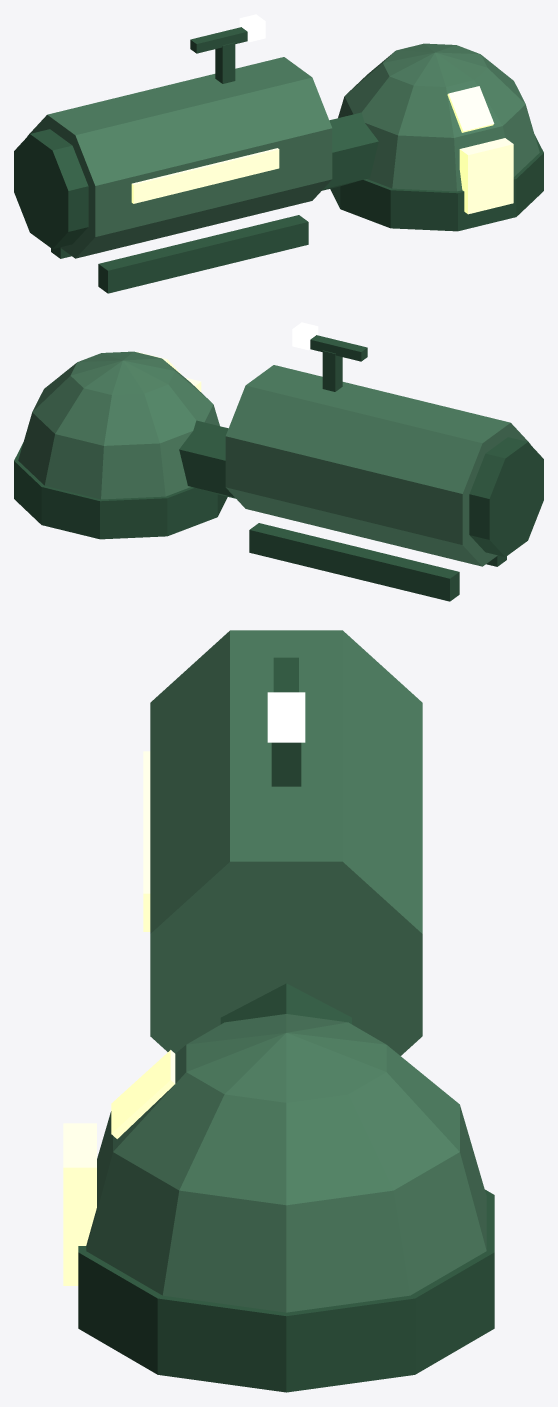
The model's file is habitat.glb.
3 views of the same model, one above another, from view 1: azimuth 30°, elevation 25°; view 2: azimuth 150°, elevation 25°; view 3: azimuth 270°, elevation 25° (orthographic). The views are drawn at different scales.
Parts seen in each view (by area): view 1: Module, Dome, Ring, EndL, SkidF, Door, Window, Tunnel, Porthole, Spinner, Post; view 2: Module, Dome, Ring, EndL, SkidB, Tunnel, Spinner, Post; view 3: Module, Dome, Ring, Door, Spinner, Porthole, Tunnel, Window, Post.
Boxes of the visible parts, x1,y1,x2,y2 form: Module: (27, 57, 332, 258); Dome: (338, 43, 539, 191); Ring: (330, 134, 543, 231); EndL: (14, 129, 88, 248); SkidF: (98, 215, 308, 293); Door: (459, 138, 513, 214); Window: (131, 148, 279, 203); Tunnel: (322, 112, 378, 190); Porthole: (447, 86, 494, 132); Spinner: (190, 14, 265, 53); Post: (215, 42, 235, 83); Module: (225, 365, 530, 566); Dome: (18, 351, 219, 499); Ring: (14, 442, 227, 539); EndL: (469, 437, 543, 556); SkidB: (249, 523, 459, 601); Tunnel: (179, 420, 235, 498); Spinner: (292, 322, 367, 361); Post: (322, 350, 342, 391); Module: (150, 630, 422, 1055); Dome: (86, 1014, 486, 1312); Ring: (78, 1189, 494, 1392); Door: (63, 1123, 96, 1285); Spinner: (267, 657, 305, 742); Porthole: (111, 1050, 175, 1138); Tunnel: (220, 983, 351, 1024); Window: (143, 751, 150, 931); Post: (271, 742, 301, 786).
Size of the model in its own units: 5.36 by 2.21 by 2.05.
